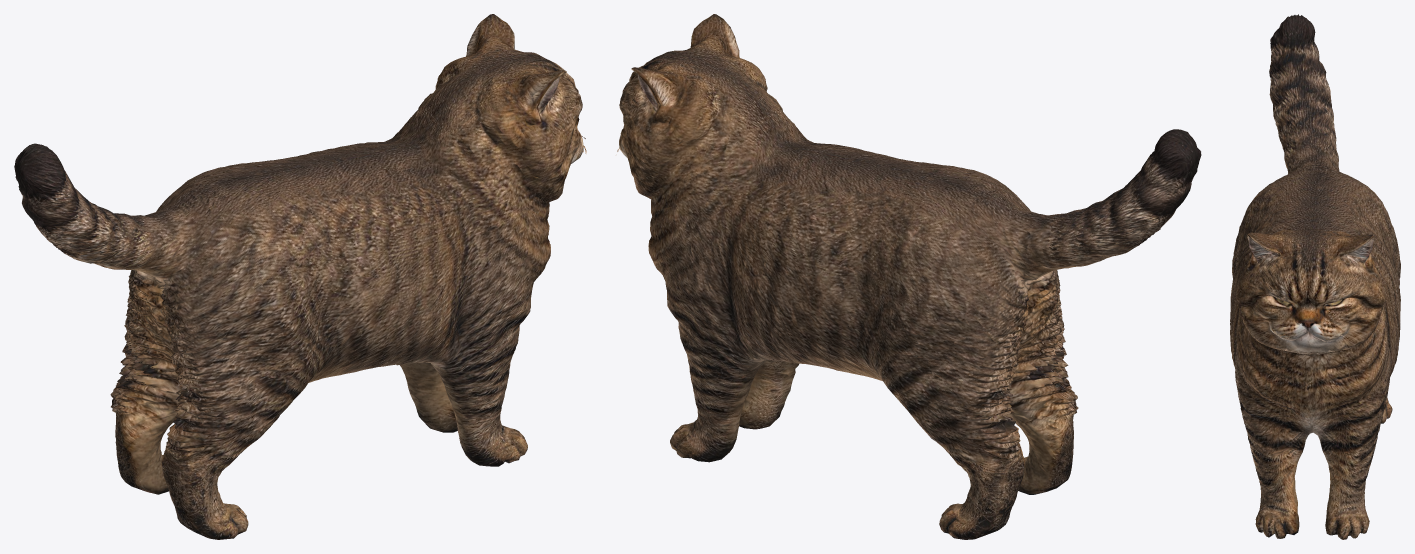
The model's file is TSUSAN.glb.
The picture shows the model from 3 angles, left to right: view 1: azimuth 30°, elevation 25°; view 2: azimuth 150°, elevation 25°; view 3: azimuth 270°, elevation 25°; orthographic projection. The views are drawn at different scales.
Parts seen in each view (by area): view 1: tripo_node_f86d1c37-1fae-482a-bc69-5e112a63d297; view 2: tripo_node_f86d1c37-1fae-482a-bc69-5e112a63d297; view 3: tripo_node_f86d1c37-1fae-482a-bc69-5e112a63d297.
Boxes of the visible parts, x1,y1,x2,y2 form: tripo_node_f86d1c37-1fae-482a-bc69-5e112a63d297: [14, 14, 586, 539]; tripo_node_f86d1c37-1fae-482a-bc69-5e112a63d297: [615, 14, 1201, 539]; tripo_node_f86d1c37-1fae-482a-bc69-5e112a63d297: [1230, 14, 1400, 539].
Bounding box in the file's own units: 1.43 × 0.9997 × 0.4601.
1 material, 1 textured.
